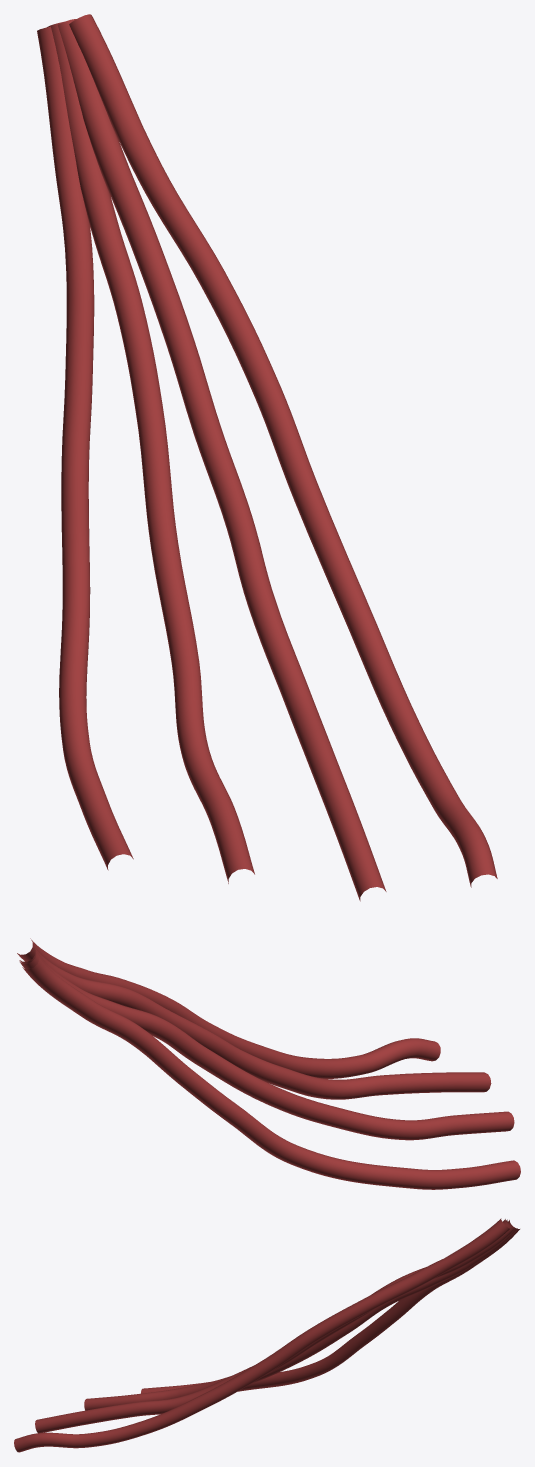
File: tendon-of-extensor-digitorum-longus-r.glb
The picture shows the model from 3 angles, top to bottom: view 1: azimuth 30°, elevation 25°; view 2: azimuth 150°, elevation 25°; view 3: azimuth 270°, elevation 25°; orthographic projection. The views are drawn at different scales.
Parts seen in each view (by area): view 1: Tendon of extensor digitorum longus.r; view 2: Tendon of extensor digitorum longus.r; view 3: Tendon of extensor digitorum longus.r.
Part boxes in pixels (x1=…): Tendon of extensor digitorum longus.r: x1=37, y1=14, x2=497, y2=901; Tendon of extensor digitorum longus.r: x1=17, y1=938, x2=520, y2=1189; Tendon of extensor digitorum longus.r: x1=14, y1=1218, x2=519, y2=1452.
Size of the model in its own units: 0.0571 by 0.0821 by 0.1445.
